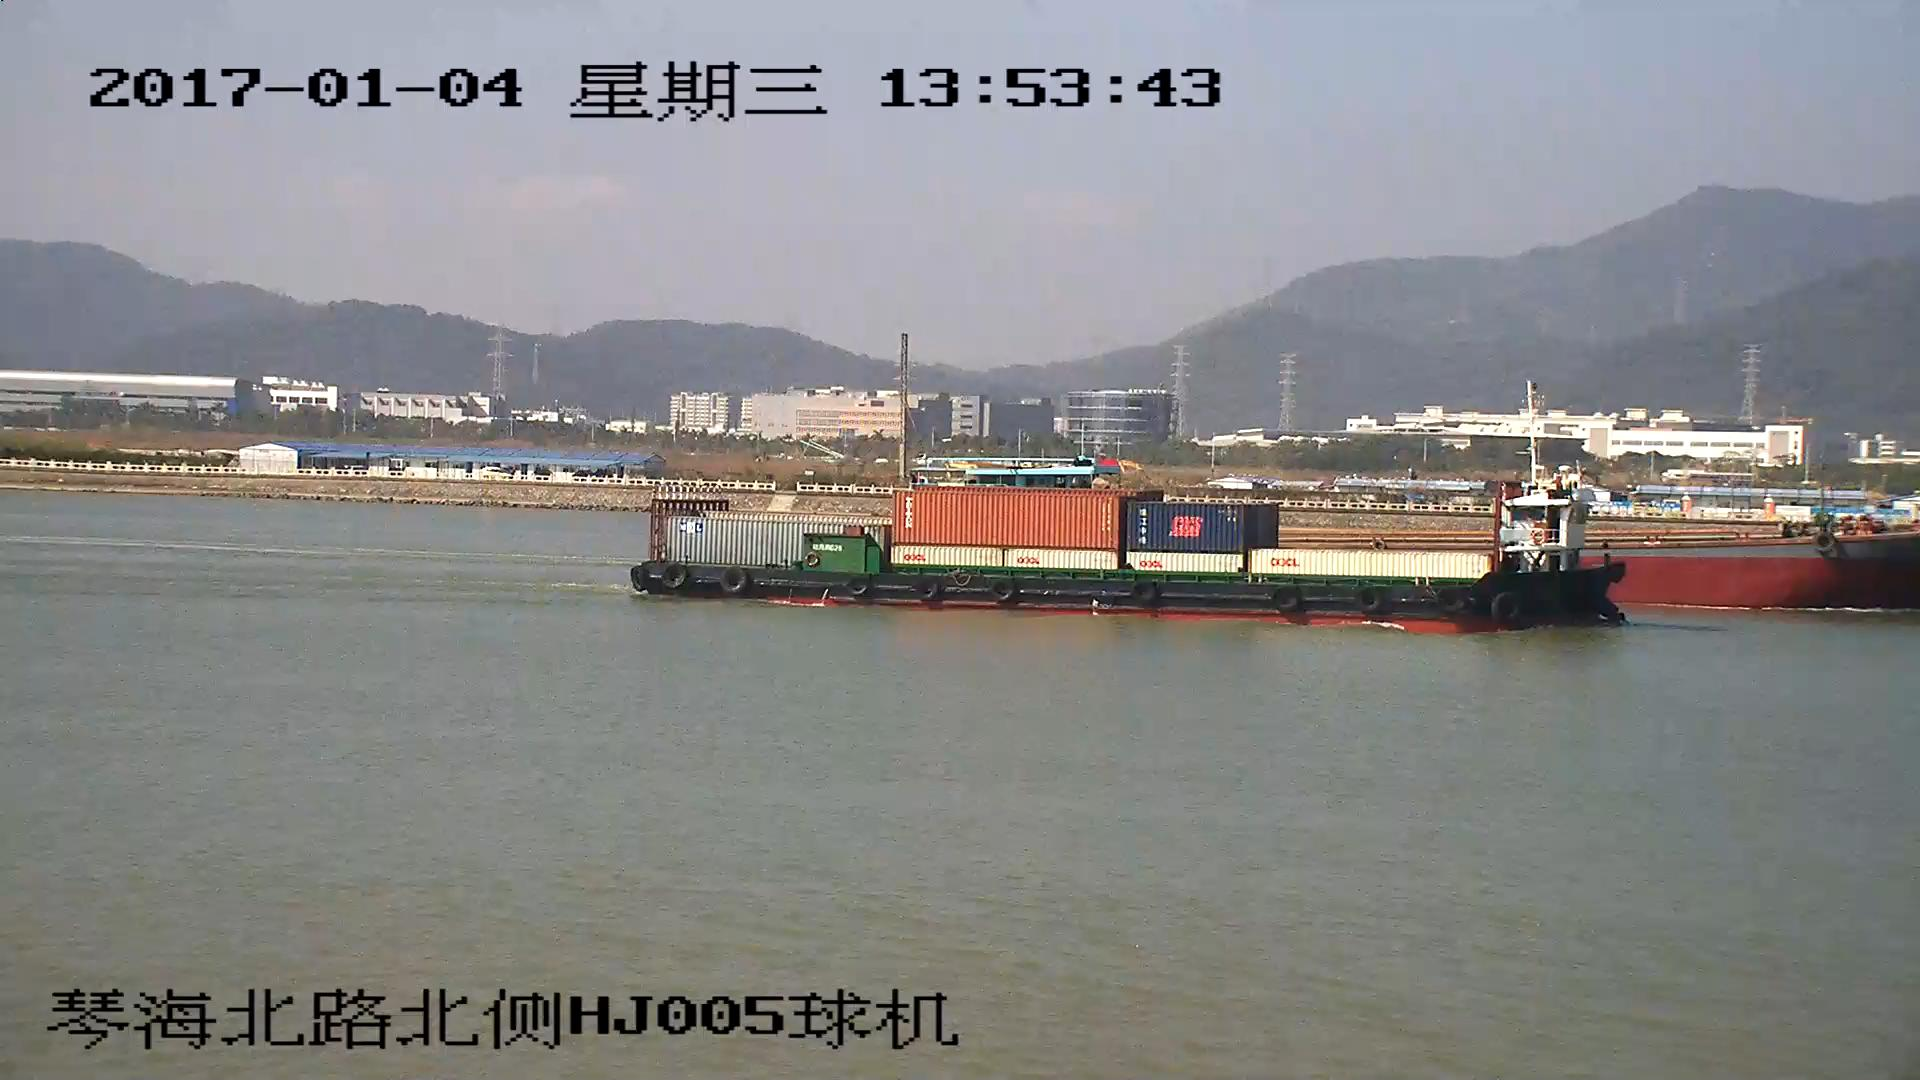container ship: (631, 486, 1624, 622)
